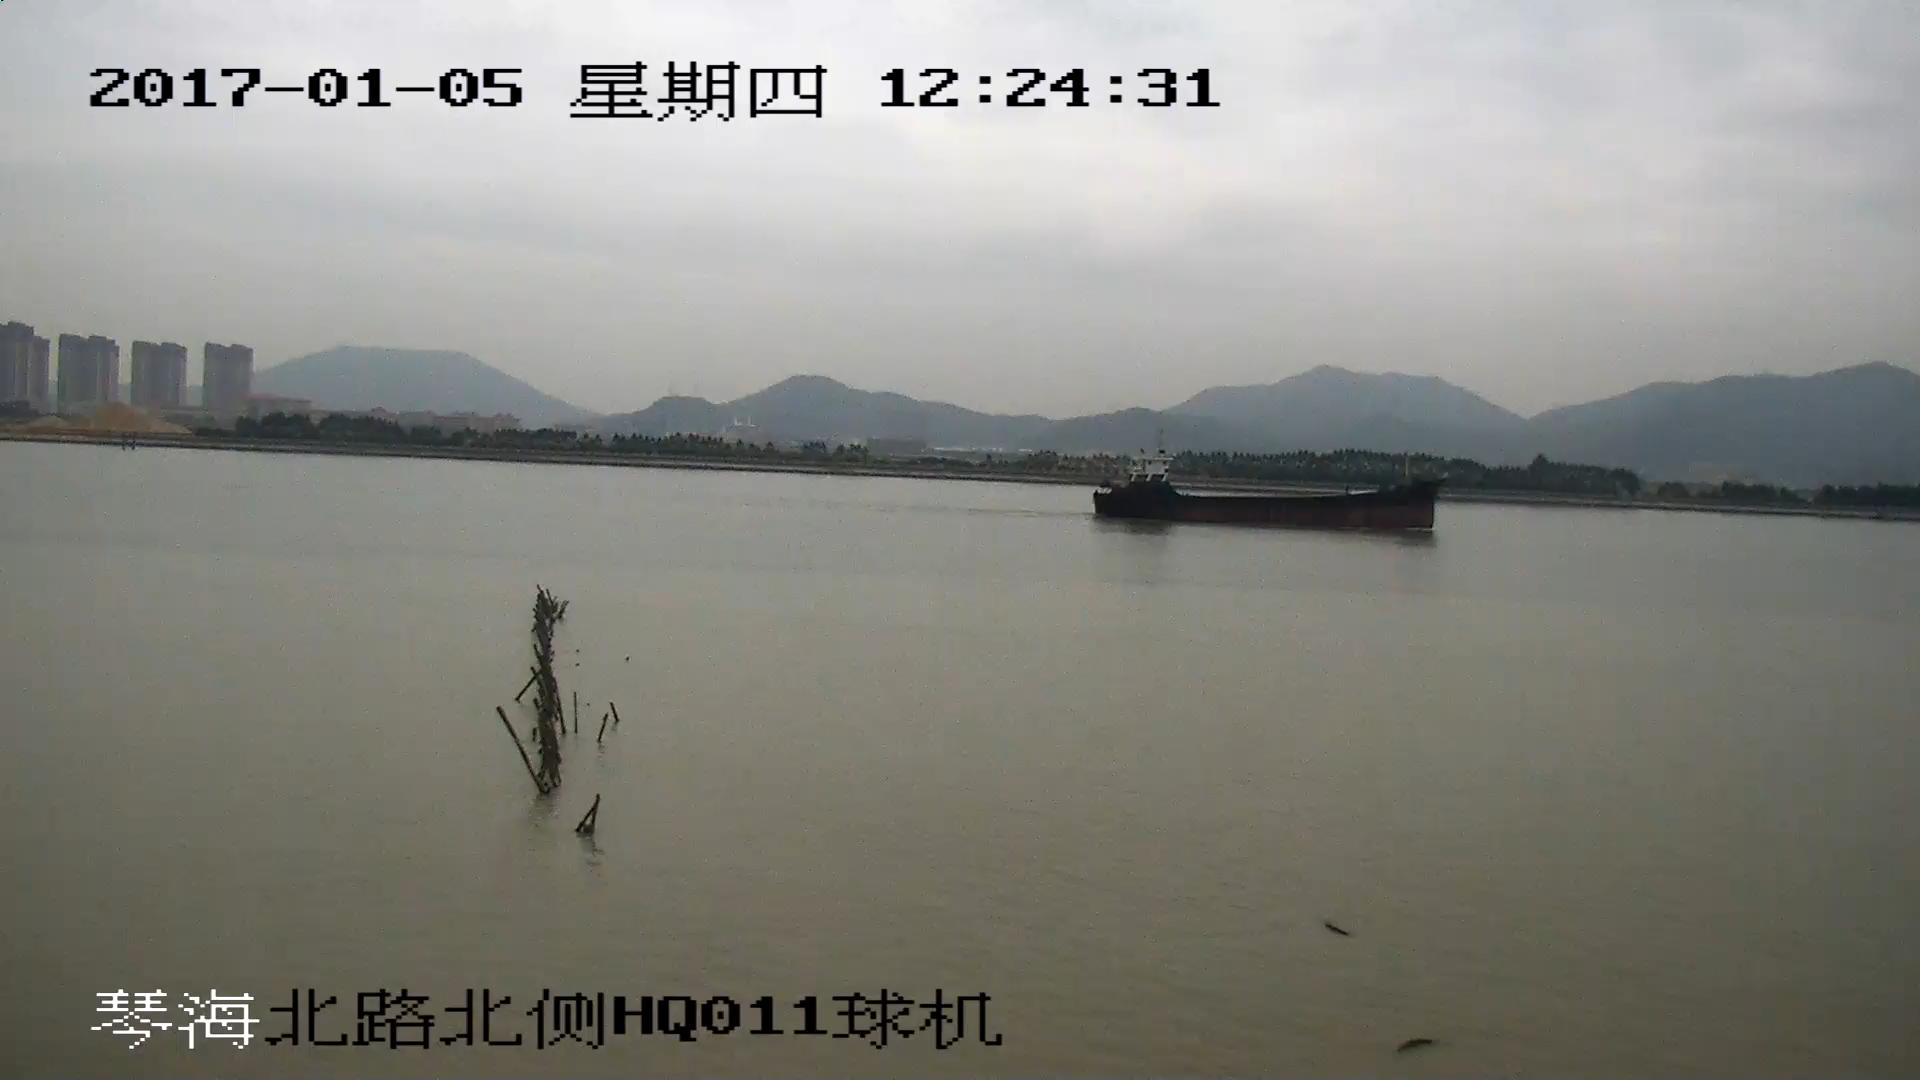general cargo ship: (1088, 453, 1447, 533)
